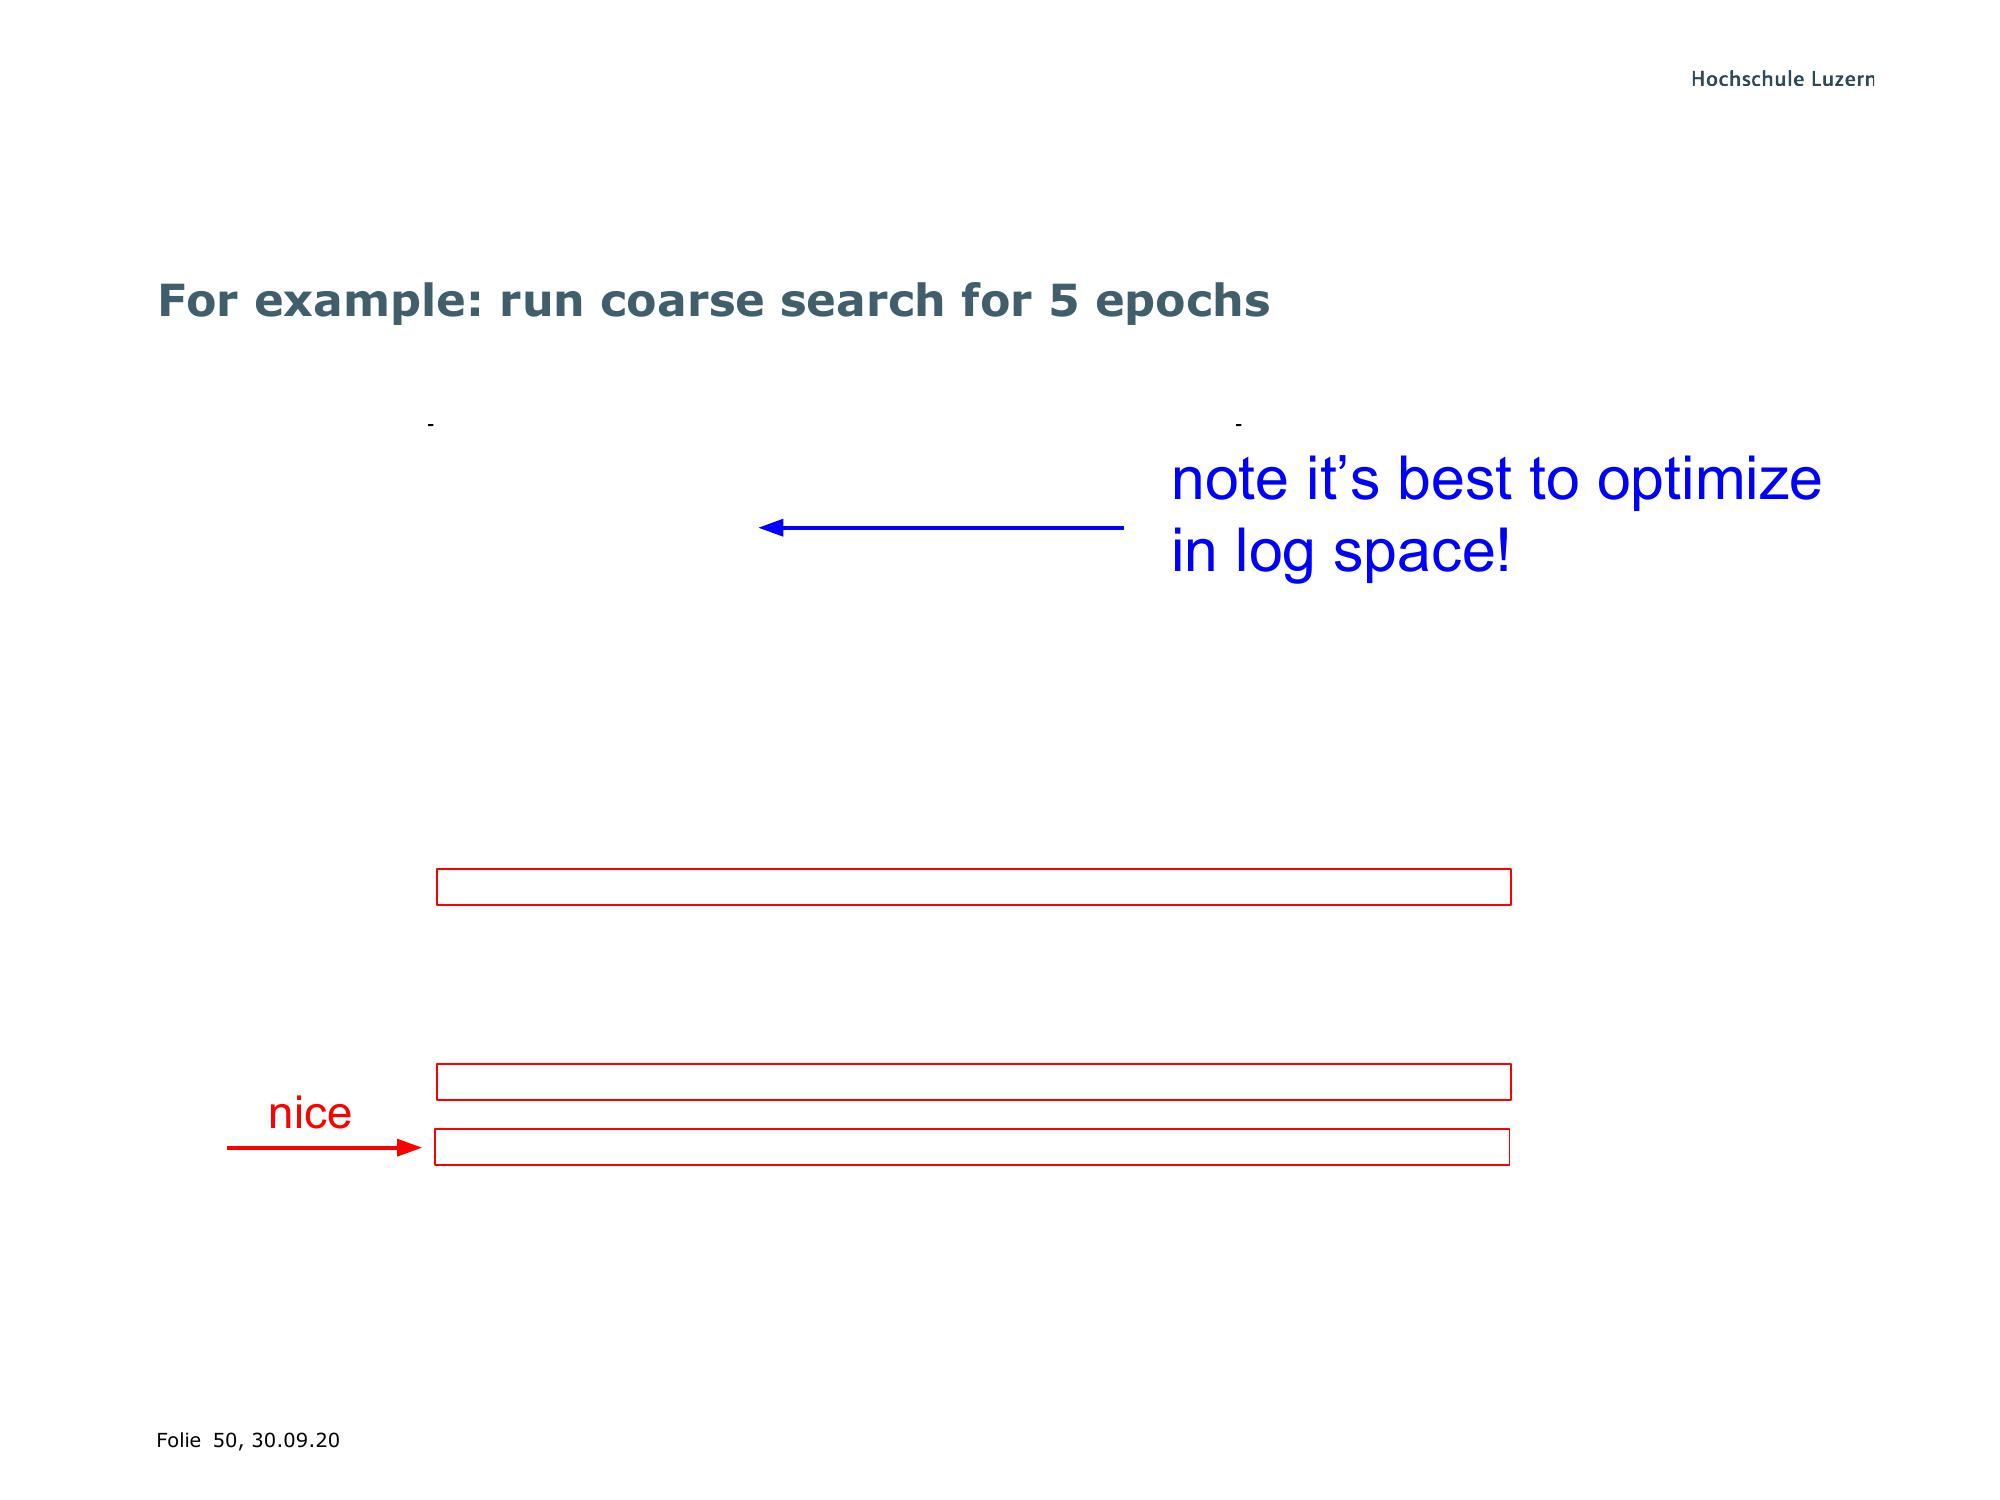Title: (146, 266, 1290, 342)
